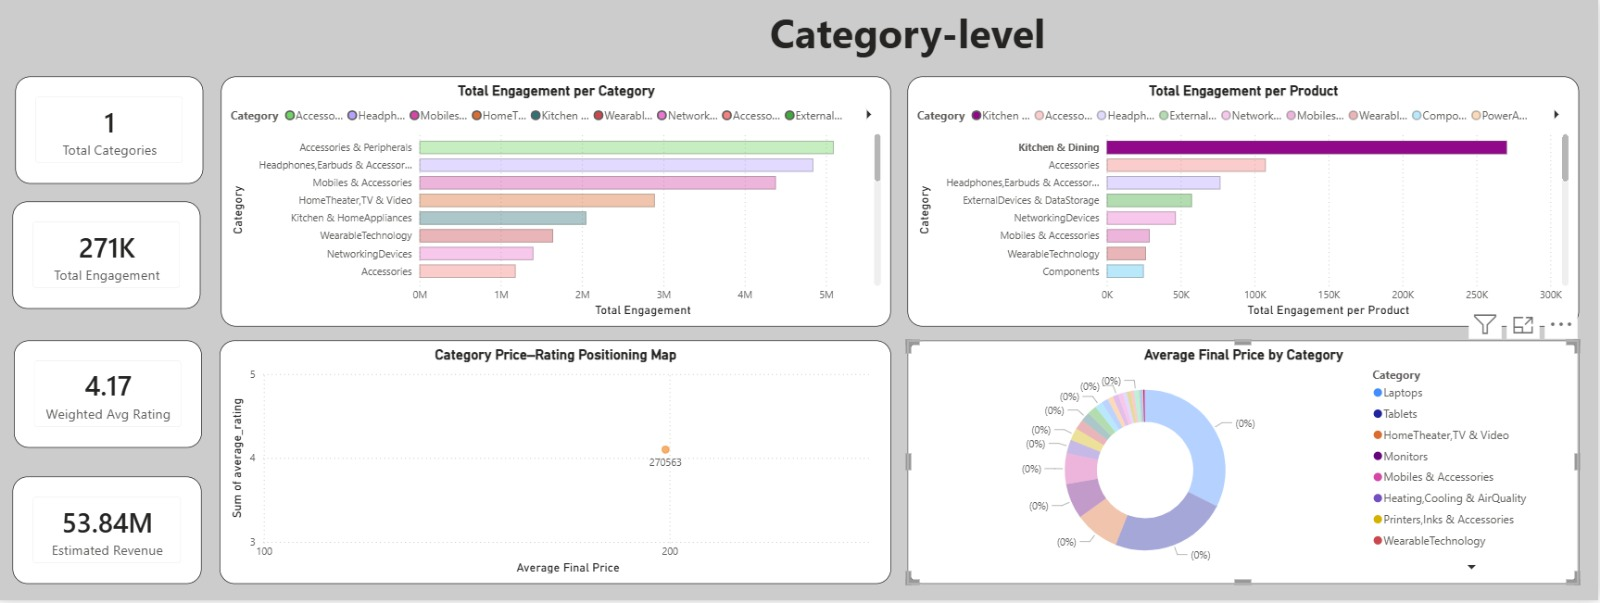

The dashboard page shown, as its layout file describes it:
{"tool":"powerbi","page":{"name":"Page 1","canvas":[1920,720],"ordinal":0},"visuals":[{"type":"barChart","title":"Total Engagement per Category ","fields":{"Y":["category_table.Total Engagement"],"Category":["category_table.Category"],"Series":["category_table.Category"]},"box":[268.3,91.7,803.3,300],"z":0},{"type":"cardVisual","fields":{"Data":["category_table.Total Categories"]},"box":[21.7,91.7,225,128.3],"z":1000},{"type":"cardVisual","fields":{"Data":["product_table.Weighted Avg Rating"]},"box":[20,408.3,225,128.3],"z":2000},{"type":"cardVisual","fields":{"Data":["category_table.Total Engagement"]},"box":[18.3,241.7,225,128.3],"z":3000},{"type":"cardVisual","fields":{"Data":["category_table.Estimated Revenue"]},"box":[18.3,571.7,226.7,128.3],"z":4000},{"type":"barChart","title":"Total Engagement per Product ","fields":{"Y":["category_table.Customers Engagement per Product"],"Category":["category_table.Category"],"Series":["category_table.Category"]},"box":[1091.7,91.7,805,300],"z":5000},{"type":"scatterChart","title":"Category Price–Rating Positioning Map","fields":{"Category":["category_table.total_engagement"],"Y":["Sum(category_table.average_rating)"],"X":["category_table.Average Final Price"]},"box":[266.7,408.3,805,291.7],"z":6000},{"type":"donutChart","fields":{"Category":["category_table.Category"],"Y":["category_table.Average Final Price"]},"box":[1091.7,408.3,805,291.7],"z":7000},{"type":"textbox","box":[921.7,0,423.3,75],"z":8000}]}

Visuals, with their boxes in screenshot pixels (x1, y1, x2, y2), scaled from the page's 1920x720 canvas onto the 1600x603 screenshot:
"Total Engagement per Category " barChart: [x1=224, y1=77, x2=893, y2=328]
cardVisual - category_table.Total Categories: [x1=18, y1=77, x2=206, y2=184]
cardVisual - product_table.Weighted Avg Rating: [x1=17, y1=342, x2=204, y2=449]
cardVisual - category_table.Total Engagement: [x1=15, y1=202, x2=203, y2=310]
cardVisual - category_table.Estimated Revenue: [x1=15, y1=479, x2=204, y2=586]
"Total Engagement per Product " barChart: [x1=910, y1=77, x2=1581, y2=328]
"Category Price–Rating Positioning Map" scatterChart: [x1=222, y1=342, x2=893, y2=586]
donutChart - category_table.Category x category_table.Average Final Price: [x1=910, y1=342, x2=1581, y2=586]
textbox: [x1=768, y1=0, x2=1121, y2=63]
